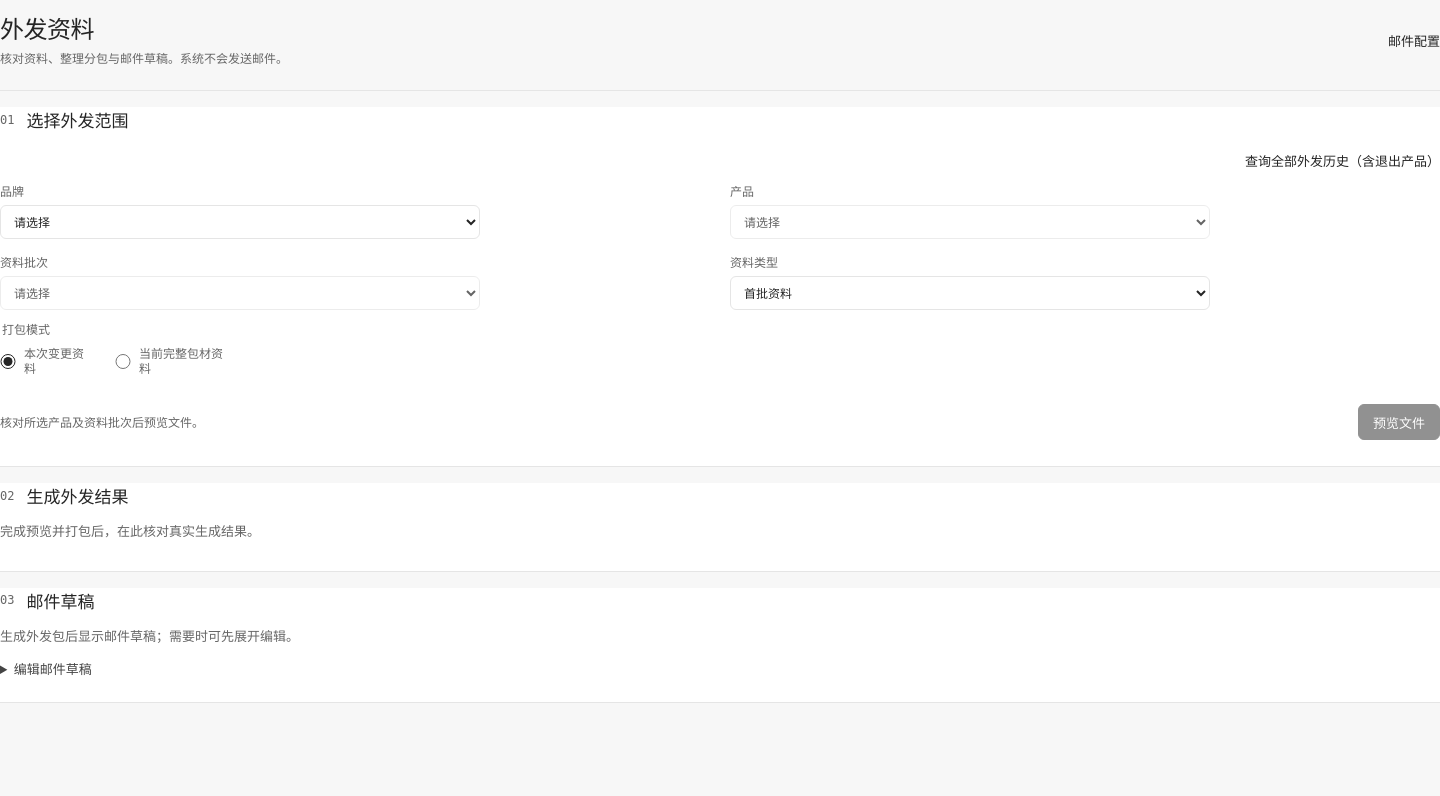
it: OutboundPage › keeps packaging and email on one page and preserves a draft while managing contacts
The width and height of the screenshot is (1440, 796).
Expected: the button "预览文件" is shown, [1358,404,1439,440]
Expected: the heading "03 邮件草稿" is shown, [0,590,94,612]
Click the heading "编辑邮件草稿".
click(53, 669)  # box [14,660,92,678]
(page scrolled)
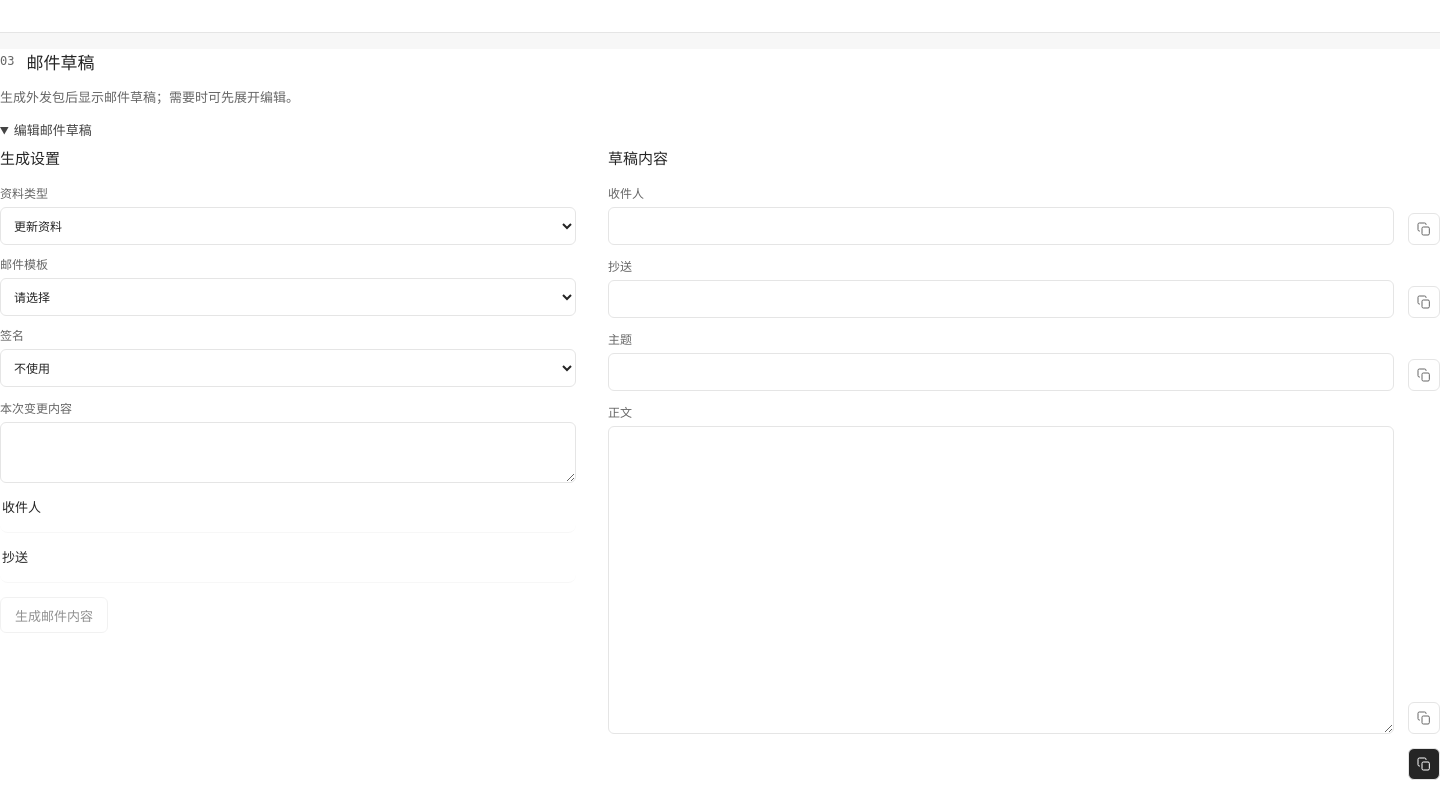
Expected: the text box labelled "正文" is shown
Type "保留草稿" into the text box labelled "正文".
click(1001, 580); type("保留草稿")  # box [608,426,1394,734]
(page scrolled)
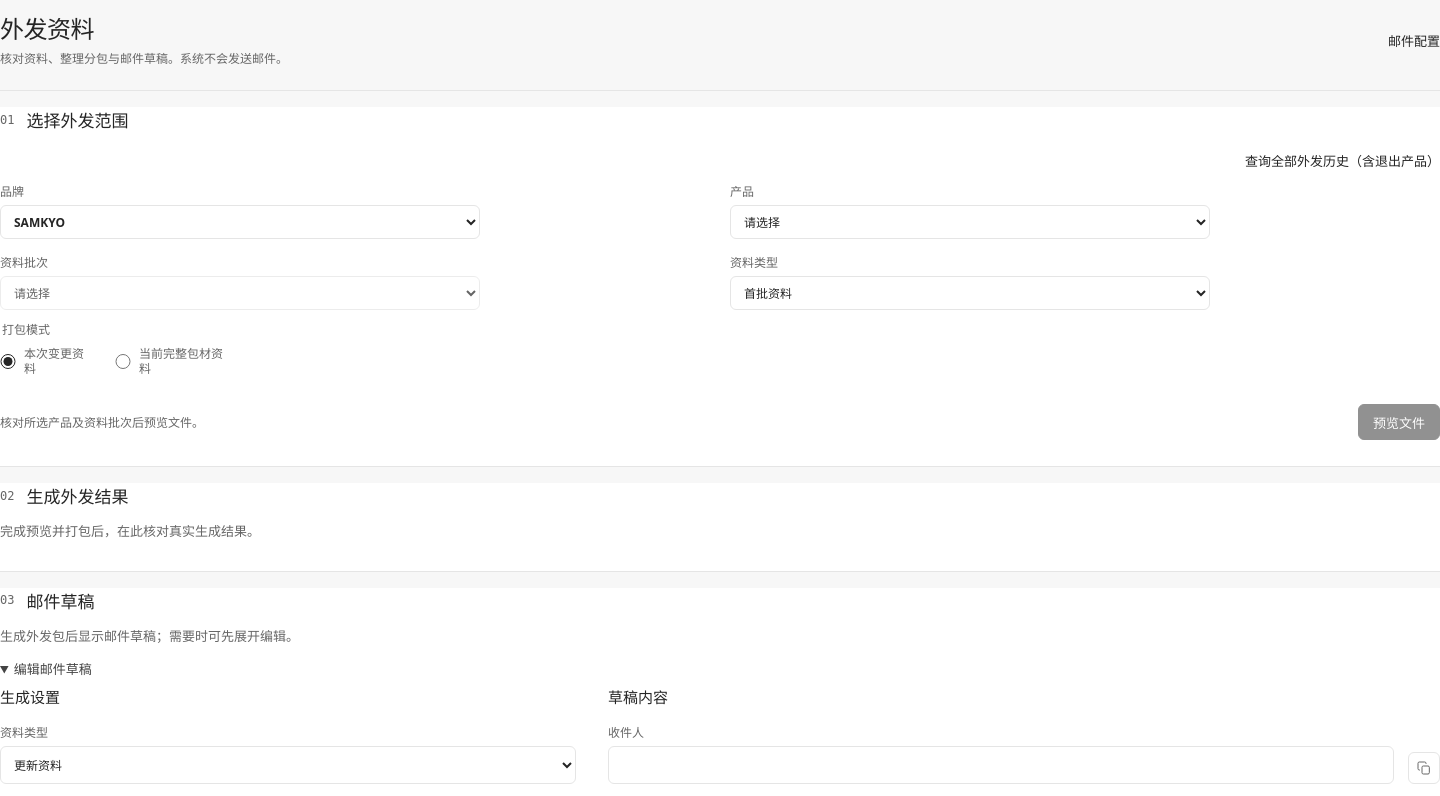
Click the button "邮件配置".
click(1414, 40)  # box [1388,26,1439,54]
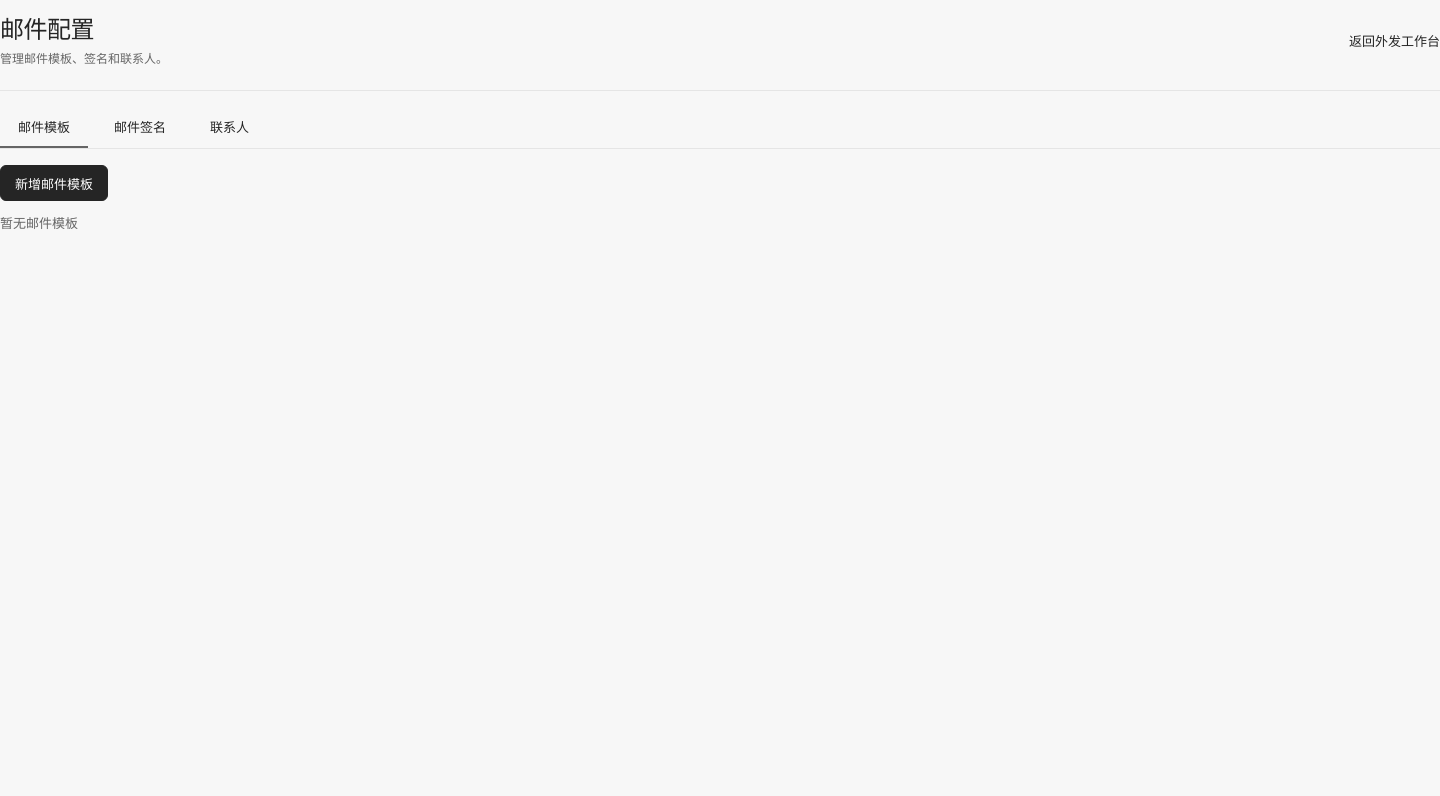
Click the tab "联系人".
click(230, 128)  # box [192,107,267,148]
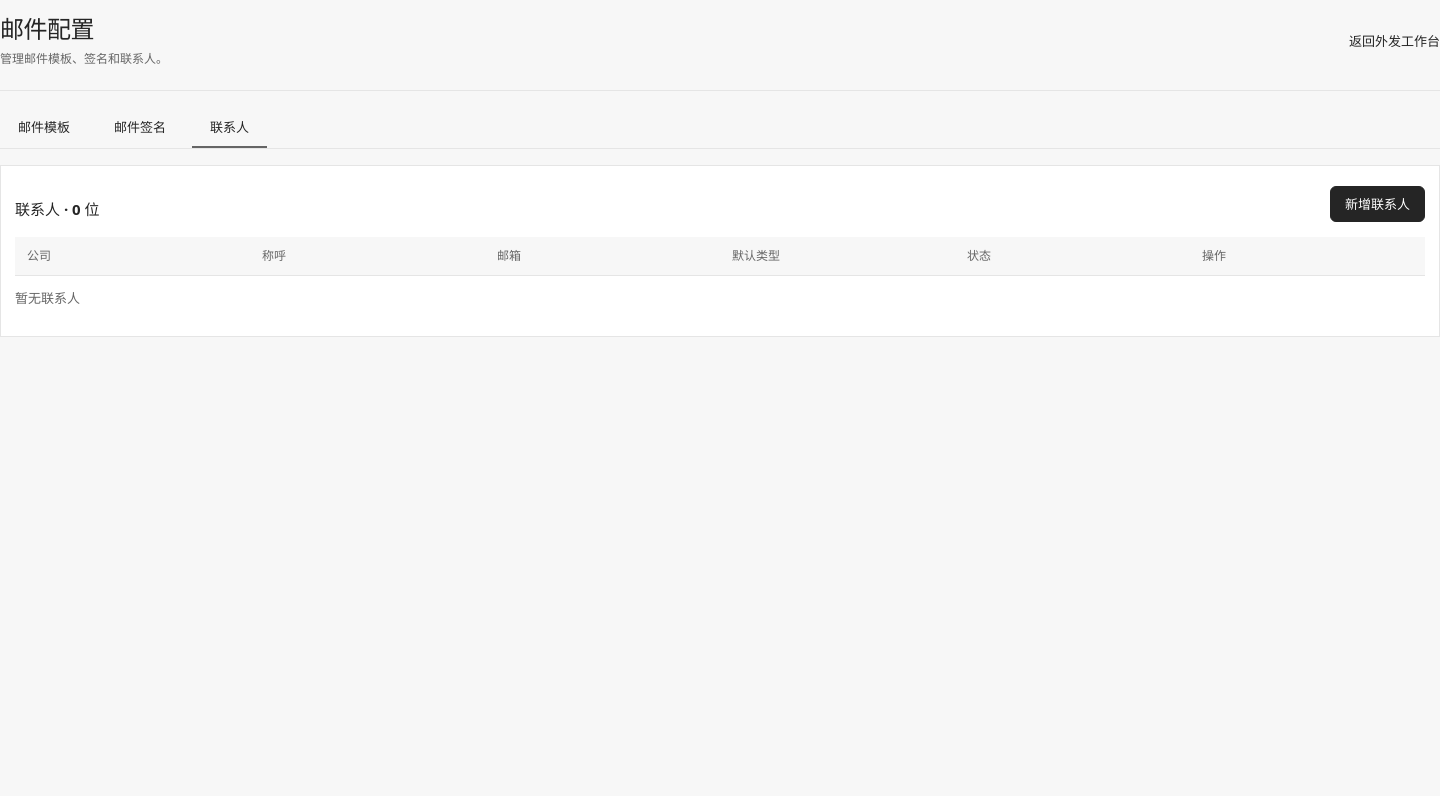
Click the button "返回外发工作台".
click(1394, 40)  # box [1349,26,1439,54]
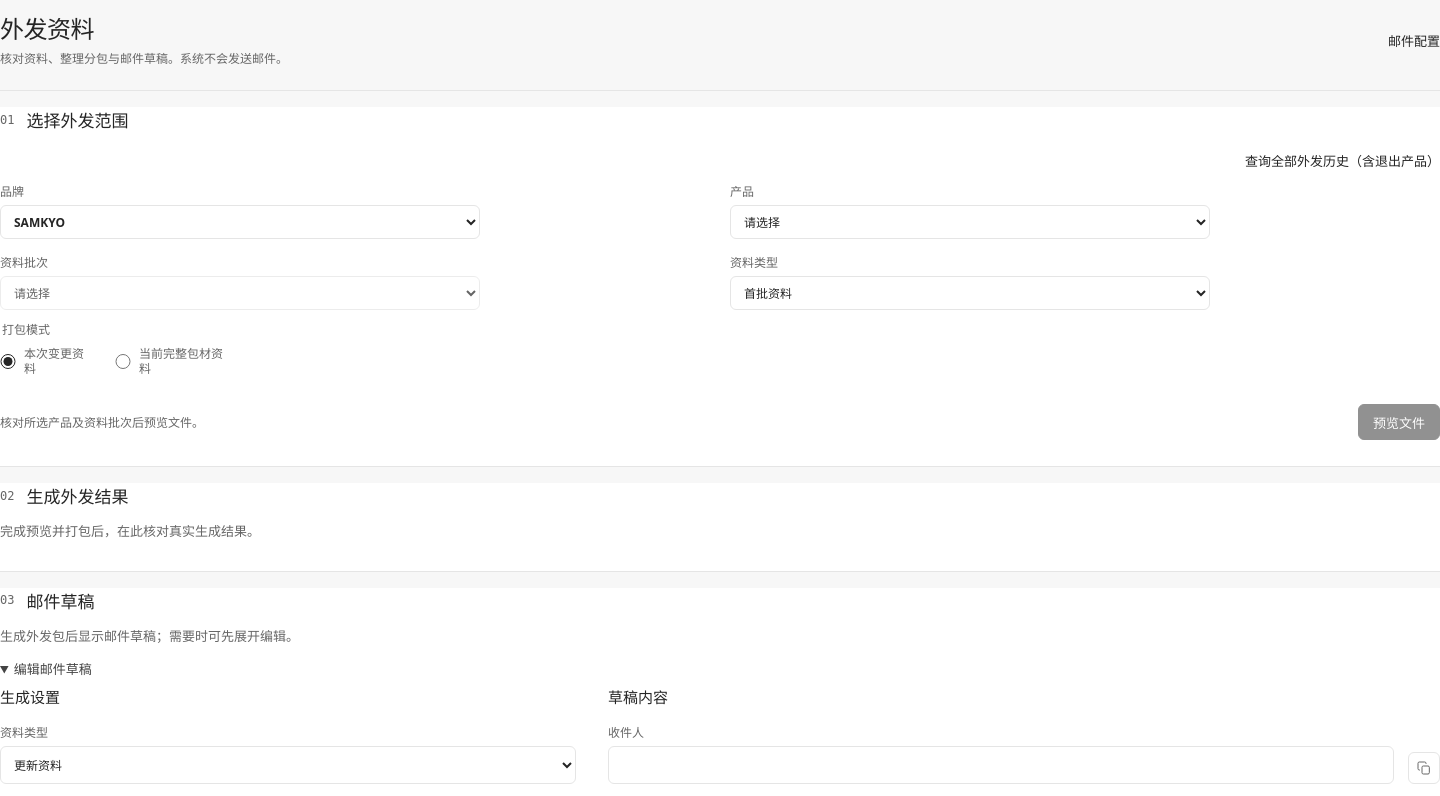
Expected: the heading "01 选择外发范围" is shown, [0,109,128,132]
Expected: the button "预览文件" is shown, [1358,404,1439,440]
